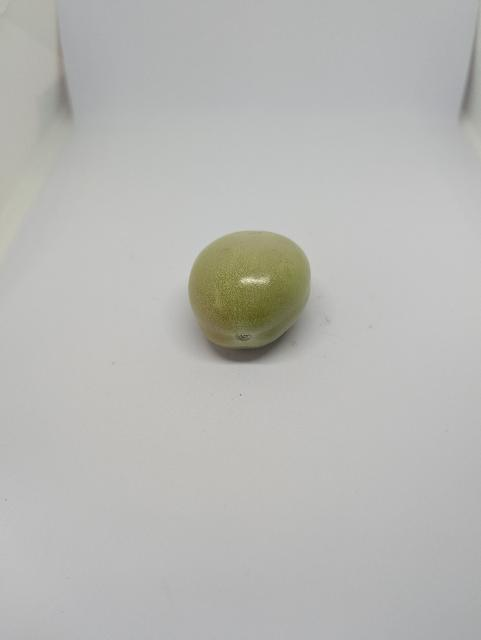green: (186, 229, 314, 351)
